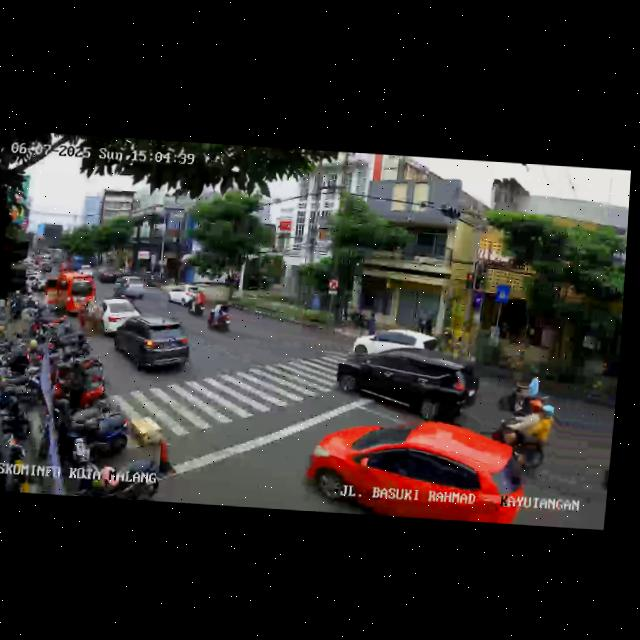car: (304, 413, 529, 524), (337, 344, 480, 424), (109, 317, 194, 379), (353, 324, 438, 366), (41, 272, 94, 317), (89, 297, 142, 338), (111, 274, 145, 301), (163, 283, 193, 308)
motorcycle: (486, 394, 557, 470), (497, 362, 553, 415), (207, 298, 234, 334), (186, 286, 205, 315)
